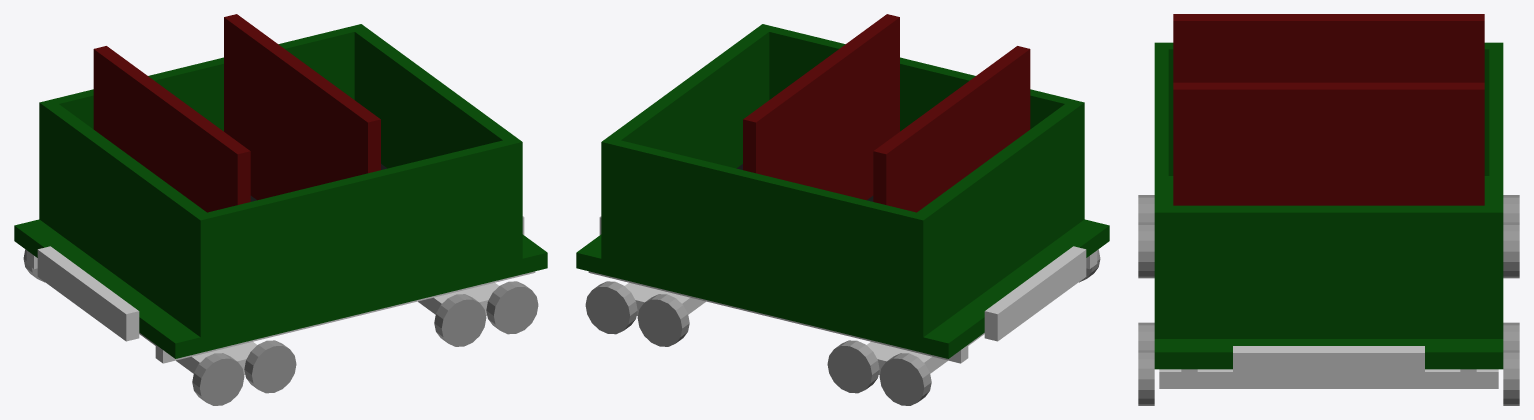
Rendered from car.obj.
3 views of the same model, side by side, from view 1: azimuth 30°, elevation 25°; view 2: azimuth 150°, elevation 25°; view 3: azimuth 270°, elevation 25° (orthographic). The views are drawn at different scales.
Parts seen in each view (by area): view 1: Body_Side_R, Body_End_F, Seat_Back_Front, Seat_Back_Rear, Body_End_R, Chassis_Floor, Body_Side_L, Bumper_F, Wheel_F_1_R, Wheel_R_1_R, Wheel_F_0_R, Wheel_R_0_R (+3 smaller); view 2: Body_Side_L, Body_End_F, Seat_Back_Front, Seat_Back_Rear, Body_End_R, Chassis_Floor, Body_Side_R, Bumper_F, Wheel_F_1_L, Wheel_R_1_L, Wheel_F_0_L, Wheel_R_0_L (+3 smaller); view 3: Body_End_R, Seat_Back_Front, Seat_Back_Rear, Bumper_R, Chassis_Floor, Body_Side_L, Body_Side_R, Truck_R_Bolster, Body_End_F, Wheel_F_1_L, Wheel_F_1_R, Wheel_R_1_L (+5 smaller).
Boxes of the visible parts, box(x1,y1,x2,y2) form: Body_Side_R: box(194, 137, 522, 337); Body_End_F: box(46, 104, 206, 332); Seat_Back_Front: box(224, 14, 380, 200); Seat_Back_Rear: box(93, 46, 250, 212); Body_End_R: box(354, 28, 515, 168); Chassis_Floor: box(14, 219, 547, 358); Body_Side_L: box(39, 24, 367, 223); Bumper_F: box(37, 246, 139, 341); Wheel_F_1_R: box(244, 340, 296, 393); Wheel_R_1_R: box(486, 281, 538, 334); Wheel_F_0_R: box(192, 353, 244, 405); Wheel_R_0_R: box(434, 294, 486, 346); Body_Side_L: box(601, 137, 929, 337); Body_End_F: box(917, 104, 1077, 332); Seat_Back_Front: box(743, 14, 899, 200); Seat_Back_Rear: box(873, 46, 1030, 212); Body_End_R: box(608, 28, 769, 168); Chassis_Floor: box(576, 219, 1109, 358); Body_Side_R: box(756, 24, 1084, 223); Bumper_F: box(984, 246, 1086, 341); Wheel_F_1_L: box(827, 340, 879, 393); Wheel_R_1_L: box(585, 281, 637, 334); Wheel_F_0_L: box(879, 353, 931, 405); Wheel_R_0_L: box(637, 294, 689, 346); Body_End_R: box(1168, 205, 1489, 338); Seat_Back_Front: box(1173, 82, 1484, 205); Seat_Back_Rear: box(1173, 14, 1484, 82); Bumper_R: box(1233, 346, 1424, 382); Chassis_Floor: box(1154, 176, 1503, 369); Body_Side_L: box(1489, 42, 1503, 338); Body_Side_R: box(1154, 42, 1168, 338); Truck_R_Bolster: box(1159, 369, 1498, 388); Body_End_F: box(1168, 42, 1489, 175); Wheel_F_1_L: box(1503, 222, 1519, 278); Wheel_F_1_R: box(1138, 222, 1154, 278); Wheel_R_1_L: box(1503, 350, 1519, 405).
Bounding box in the file's own units: 2.14 × 1.19 × 1.64.
